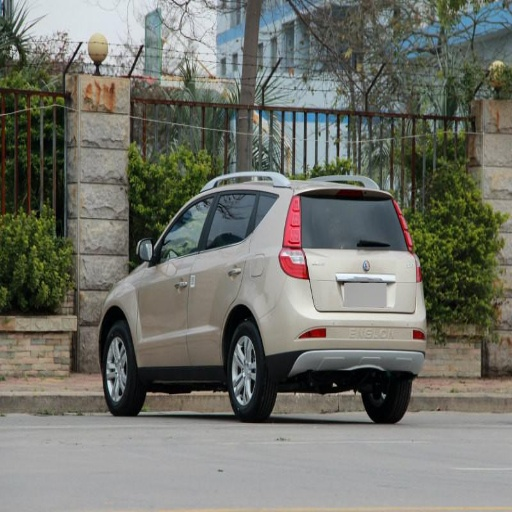back_bumper: (261, 276, 422, 373)
back_glass: (300, 189, 398, 245)
back_left_door: (188, 190, 256, 363)
tailgate: (303, 239, 414, 310)
